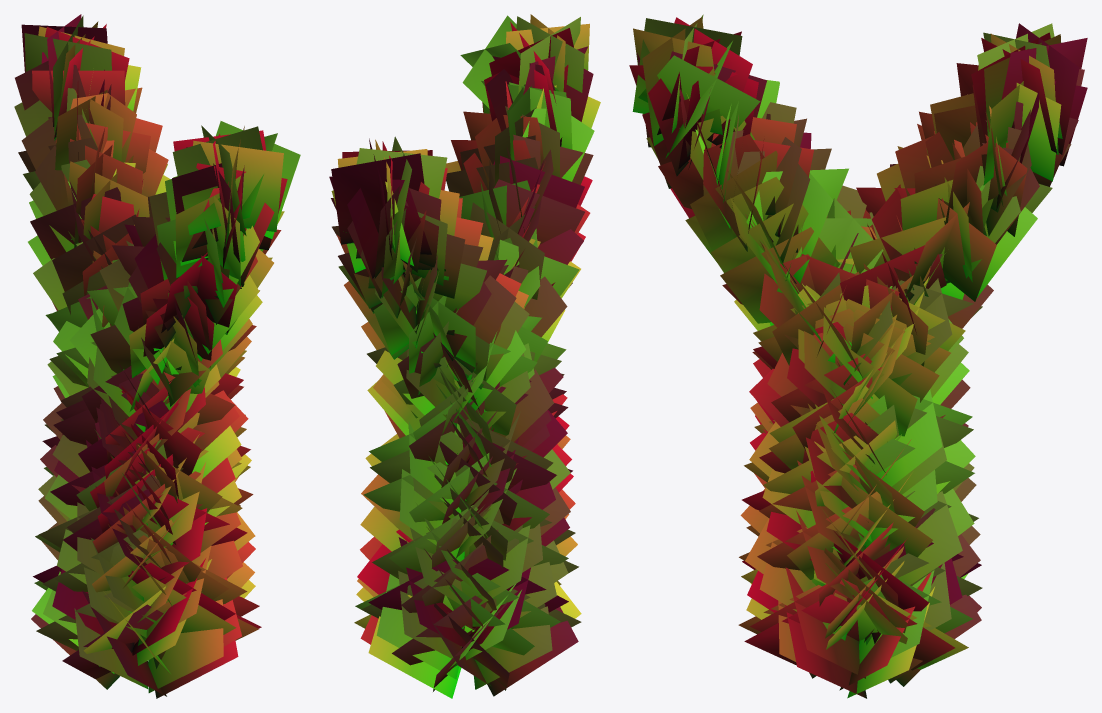
Rendered from URP_P4_Tree_11_LOD_0.fbx.
The picture shows the model from 3 angles, left to right: view 1: azimuth 30°, elevation 25°; view 2: azimuth 150°, elevation 25°; view 3: azimuth 270°, elevation 25°; orthographic projection. The views are drawn at different scales.
Visible parts, largest first — view 1: Tree_11_LOD_0; view 2: Tree_11_LOD_0; view 3: Tree_11_LOD_0.
Boxes of the visible parts, x1,y1,x2,y2 form: Tree_11_LOD_0: [14, 14, 300, 698]; Tree_11_LOD_0: [329, 14, 600, 698]; Tree_11_LOD_0: [629, 14, 1087, 698].
Size of the model in its own units: 211 by 622 by 394.
